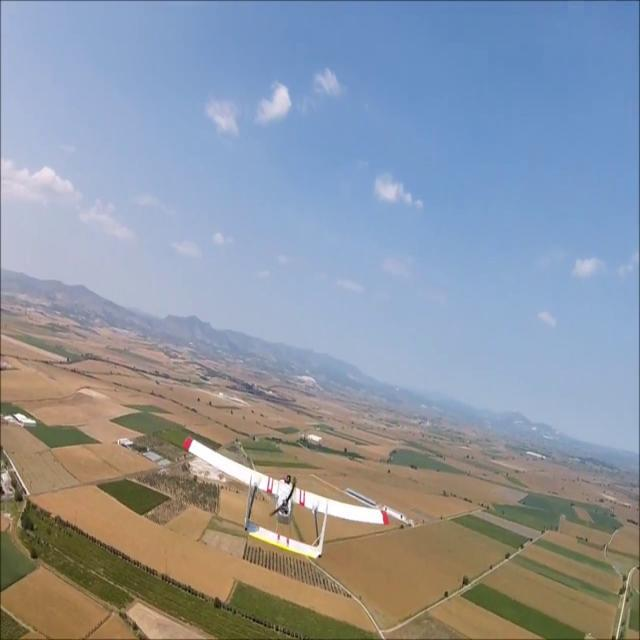iha: (177, 432, 395, 563)
